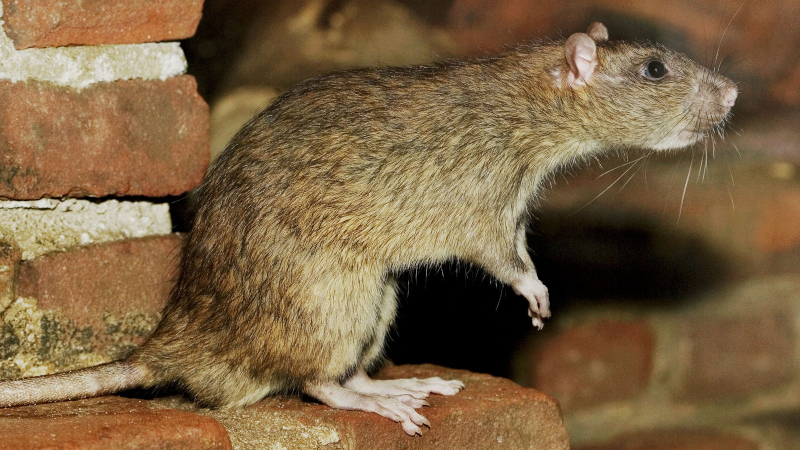rat: (75, 14, 754, 445)
